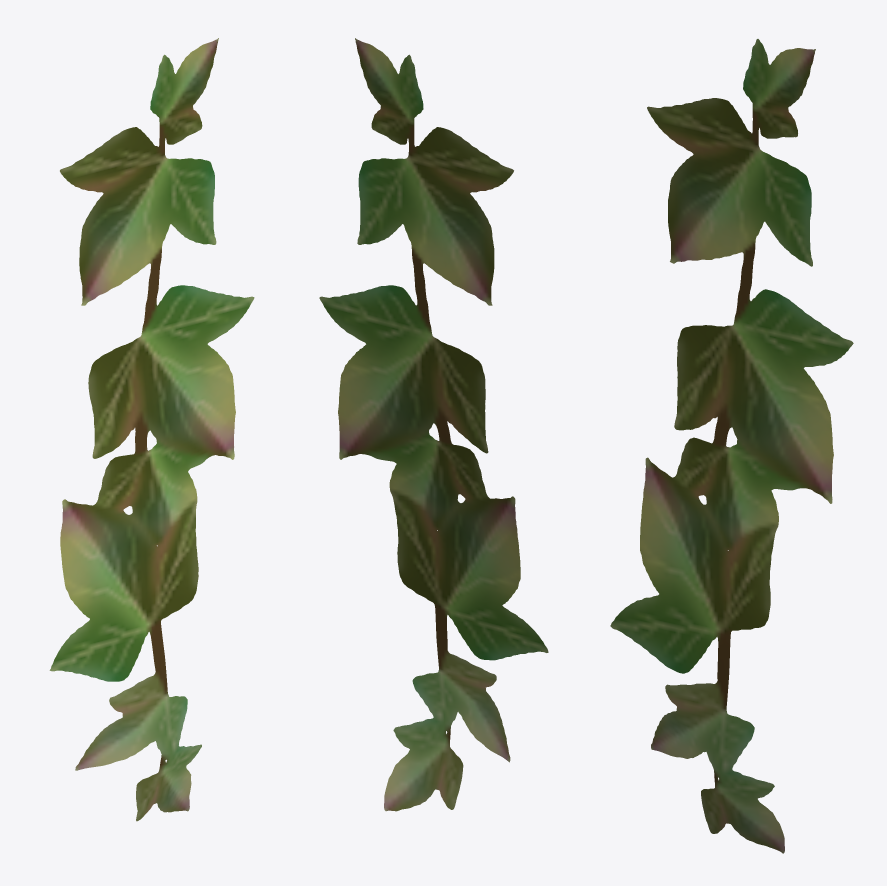
The model's file is lierres_gr_3.fbx.
3 views of the same model, side by side, from view 1: azimuth 30°, elevation 25°; view 2: azimuth 150°, elevation 25°; view 3: azimuth 330°, elevation 25° (orthographic). The views are drawn at different scales.
Parts seen in each view (by area): view 1: Lierres; view 2: Lierres; view 3: Lierres.
Boxes of the visible parts, box(x1,y1,x2,y2) form: Lierres: box(49, 38, 254, 821); Lierres: box(319, 38, 548, 811); Lierres: box(610, 39, 853, 853).
Size of the model in its own units: 20.89 by 63.77 by 2.97.
